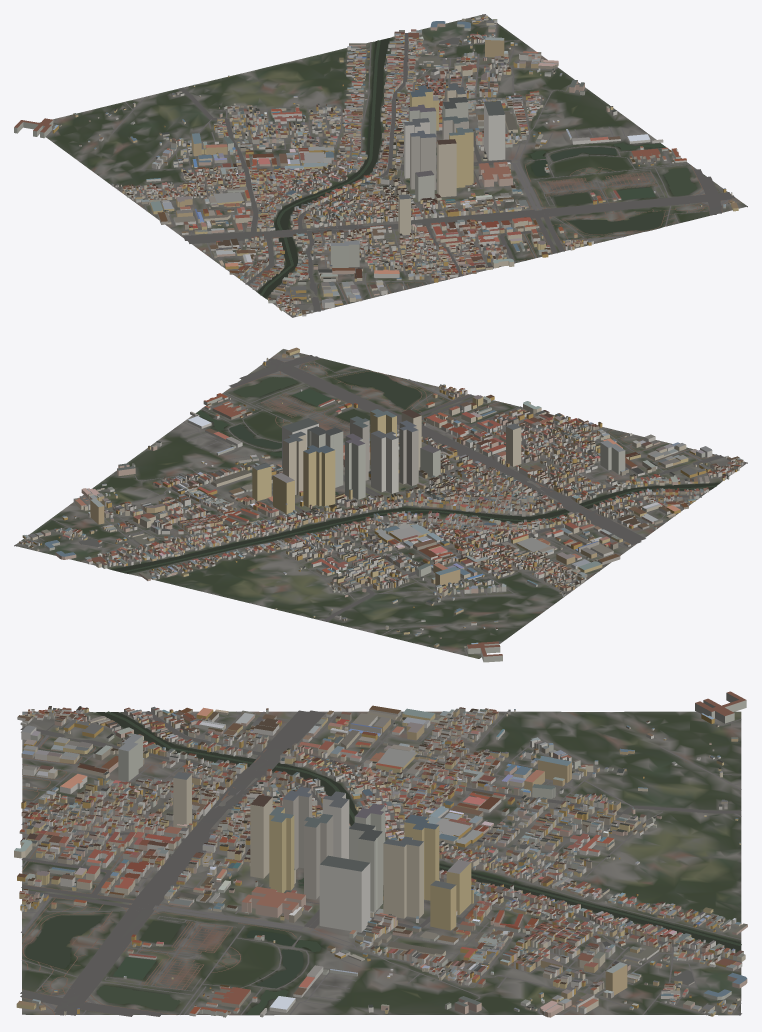
3 views of the same model, one above another, from view 1: azimuth 30°, elevation 25°; view 2: azimuth 150°, elevation 25°; view 3: azimuth 270°, elevation 25° (orthographic). The views are drawn at different scales.
Parts seen in each view (by area): view 1: buildings, ground, roads, water; view 2: buildings, ground, roads, water; view 3: buildings, ground, roads, water.
Boxes of the visible parts, x1=… form: buildings: x1=14, y1=15, x2=738, y2=316; ground: x1=39, y1=15, x2=747, y2=317; roads: x1=46, y1=14, x2=735, y2=317; water: x1=258, y1=38, x2=697, y2=297; buildings: x1=19, y1=347, x2=743, y2=662; ground: x1=14, y1=349, x2=747, y2=658; roads: x1=14, y1=355, x2=746, y2=656; water: x1=112, y1=372, x2=719, y2=573; buildings: x1=14, y1=691, x2=747, y2=1017; ground: x1=22, y1=711, x2=741, y2=1015; roads: x1=20, y1=710, x2=741, y2=1016; water: x1=25, y1=711, x2=741, y2=1014.
Bounding box in the file's own units: 1471 × 160 × 1431.
